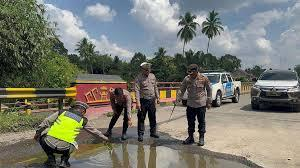Pothole: (17, 133, 249, 168)
